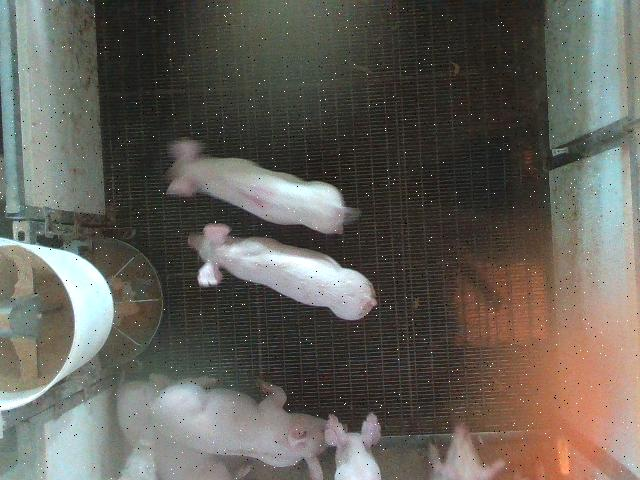pig-3: (152, 381, 326, 478)
pig-4: (166, 140, 359, 234)
